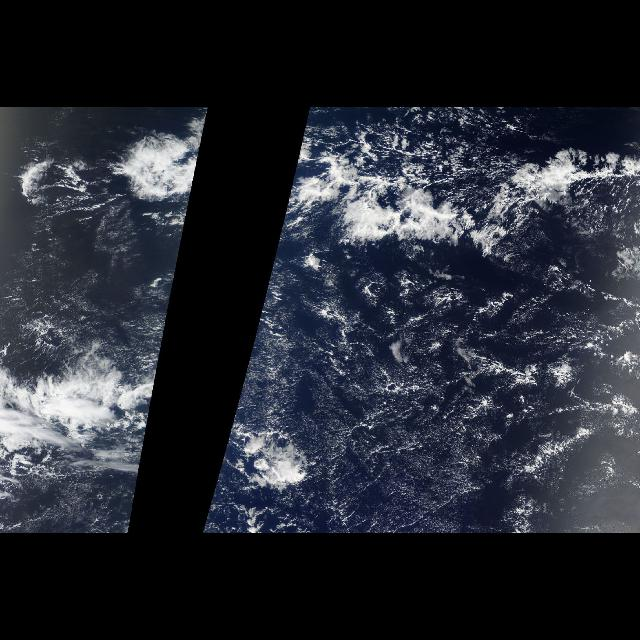Fish: (285, 126, 639, 266)
Sugar: (228, 243, 564, 532), (19, 200, 191, 364)
